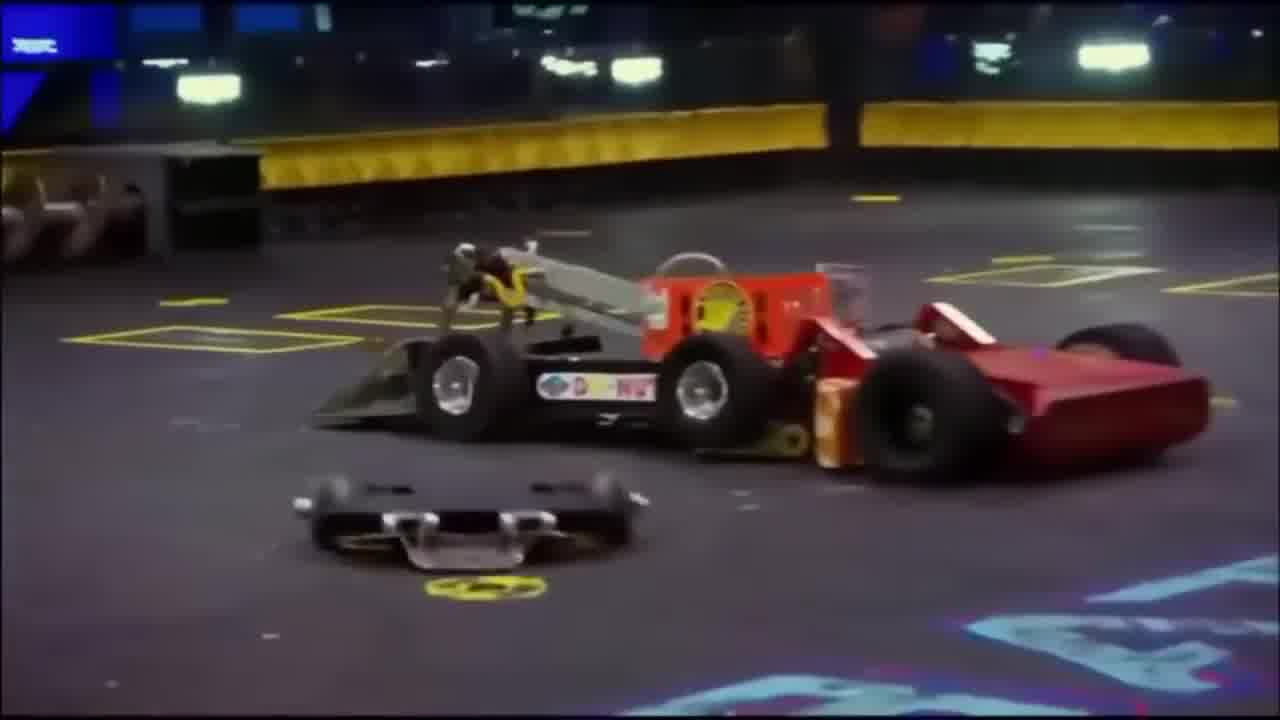combatbot: (318, 239, 823, 455), (784, 296, 1214, 490), (294, 473, 644, 573)
